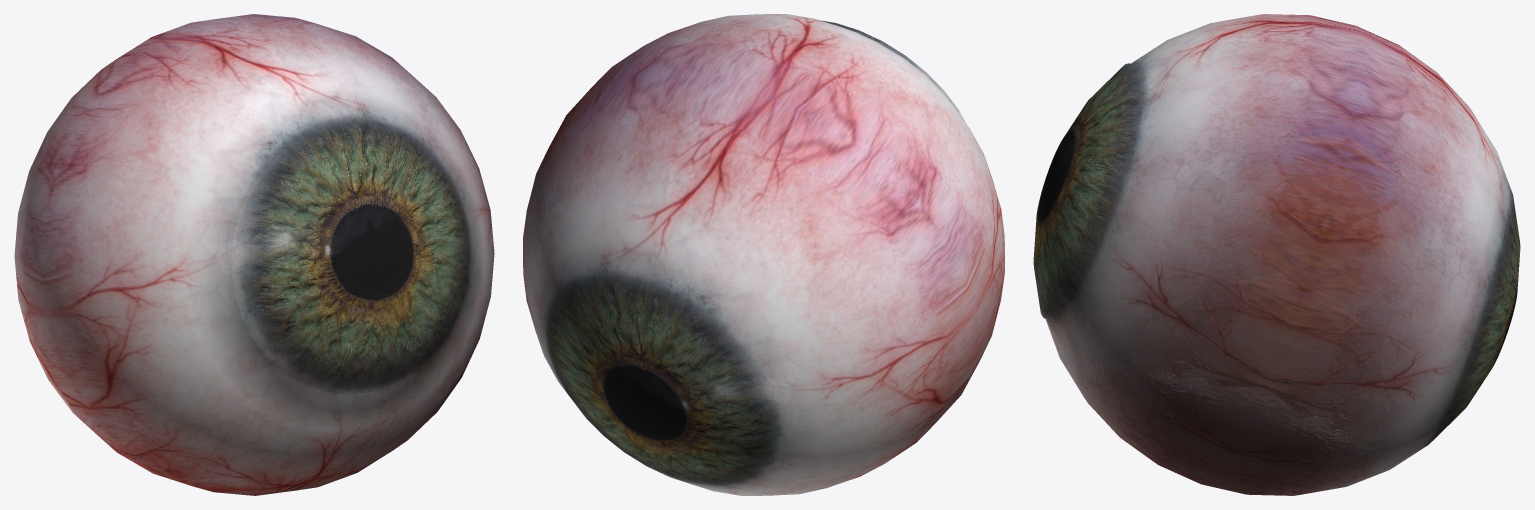
The model's file is RealisticEye.glb.
3 renders of one model, left to right at view 1: azimuth 30°, elevation 25°; view 2: azimuth 150°, elevation 25°; view 3: azimuth 270°, elevation 25°, orthographic.
Visible parts, largest first — view 1: Sphere; view 2: Sphere; view 3: Sphere.
Part boxes in pixels (<box>): Sphere: <box>14,14,494,495</box>; Sphere: <box>523,14,1004,495</box>; Sphere: <box>1033,14,1520,495</box>.
Bounding box in the file's own units: 2.02 × 2.02 × 2.04.
Materials: 1 (1 with a texture image).
